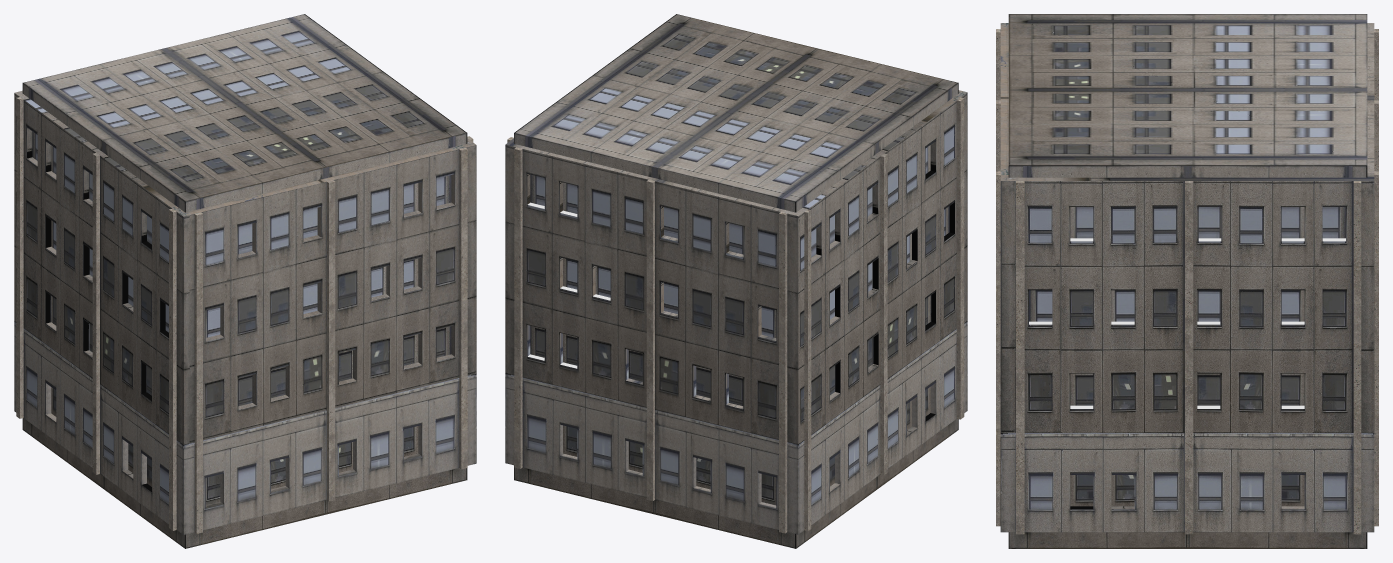
File: BagSS01mid_300.fbx
3 views of the same model, side by side, from view 1: azimuth 30°, elevation 25°; view 2: azimuth 150°, elevation 25°; view 3: azimuth 270°, elevation 25° (orthographic). The views are drawn at different scales.
Visible parts, largest first — view 1: ma_B300, ma_Box300, ma_A300; view 2: ma_B300, ma_Box300, ma_A300; view 3: ma_B300, ma_Box300, ma_A300.
Boxes of the visible parts, left/top/right/bottom form: ma_B300: left=14, top=90, right=476, bottom=534; ma_Box300: left=22, top=14, right=467, bottom=548; ma_A300: left=16, top=97, right=473, bottom=533; ma_B300: left=505, top=90, right=967, bottom=534; ma_Box300: left=514, top=14, right=958, bottom=548; ma_A300: left=507, top=97, right=964, bottom=533; ma_B300: left=1000, top=23, right=1374, bottom=532; ma_Box300: left=1008, top=14, right=1367, bottom=548; ma_A300: left=996, top=29, right=1378, bottom=534.
Size of the model in its own units: 17.99 by 19.86 by 17.99.
